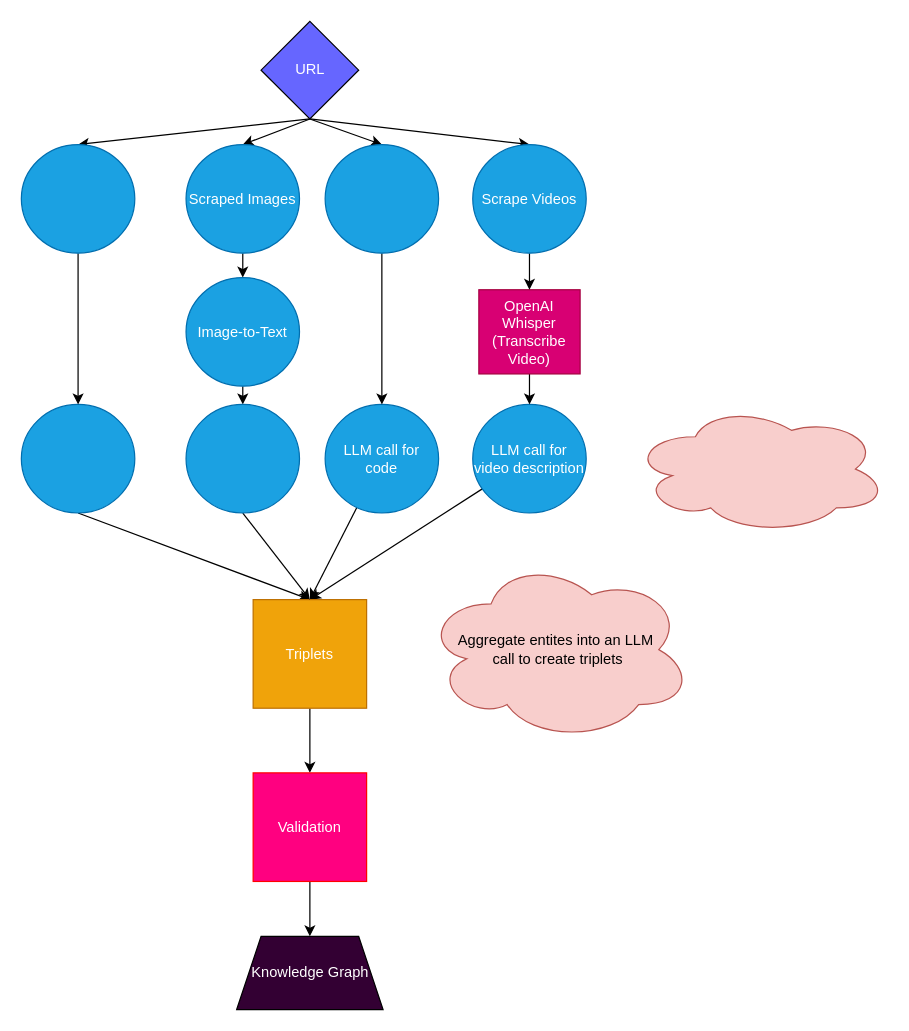
Image size: 909x1031. Some labels were removed from this diagram. The shapes that lost their labels are listed below. From the top down, each one's centre as x and y in pixels, then its label:
(x=77, y=198): Scraped Text
(x=381, y=198): Scraped Code
(x=77, y=458): LLM call for Text
(x=242, y=458): LLM call for image description
(x=759, y=468): LLM call to create entites from extracted content
